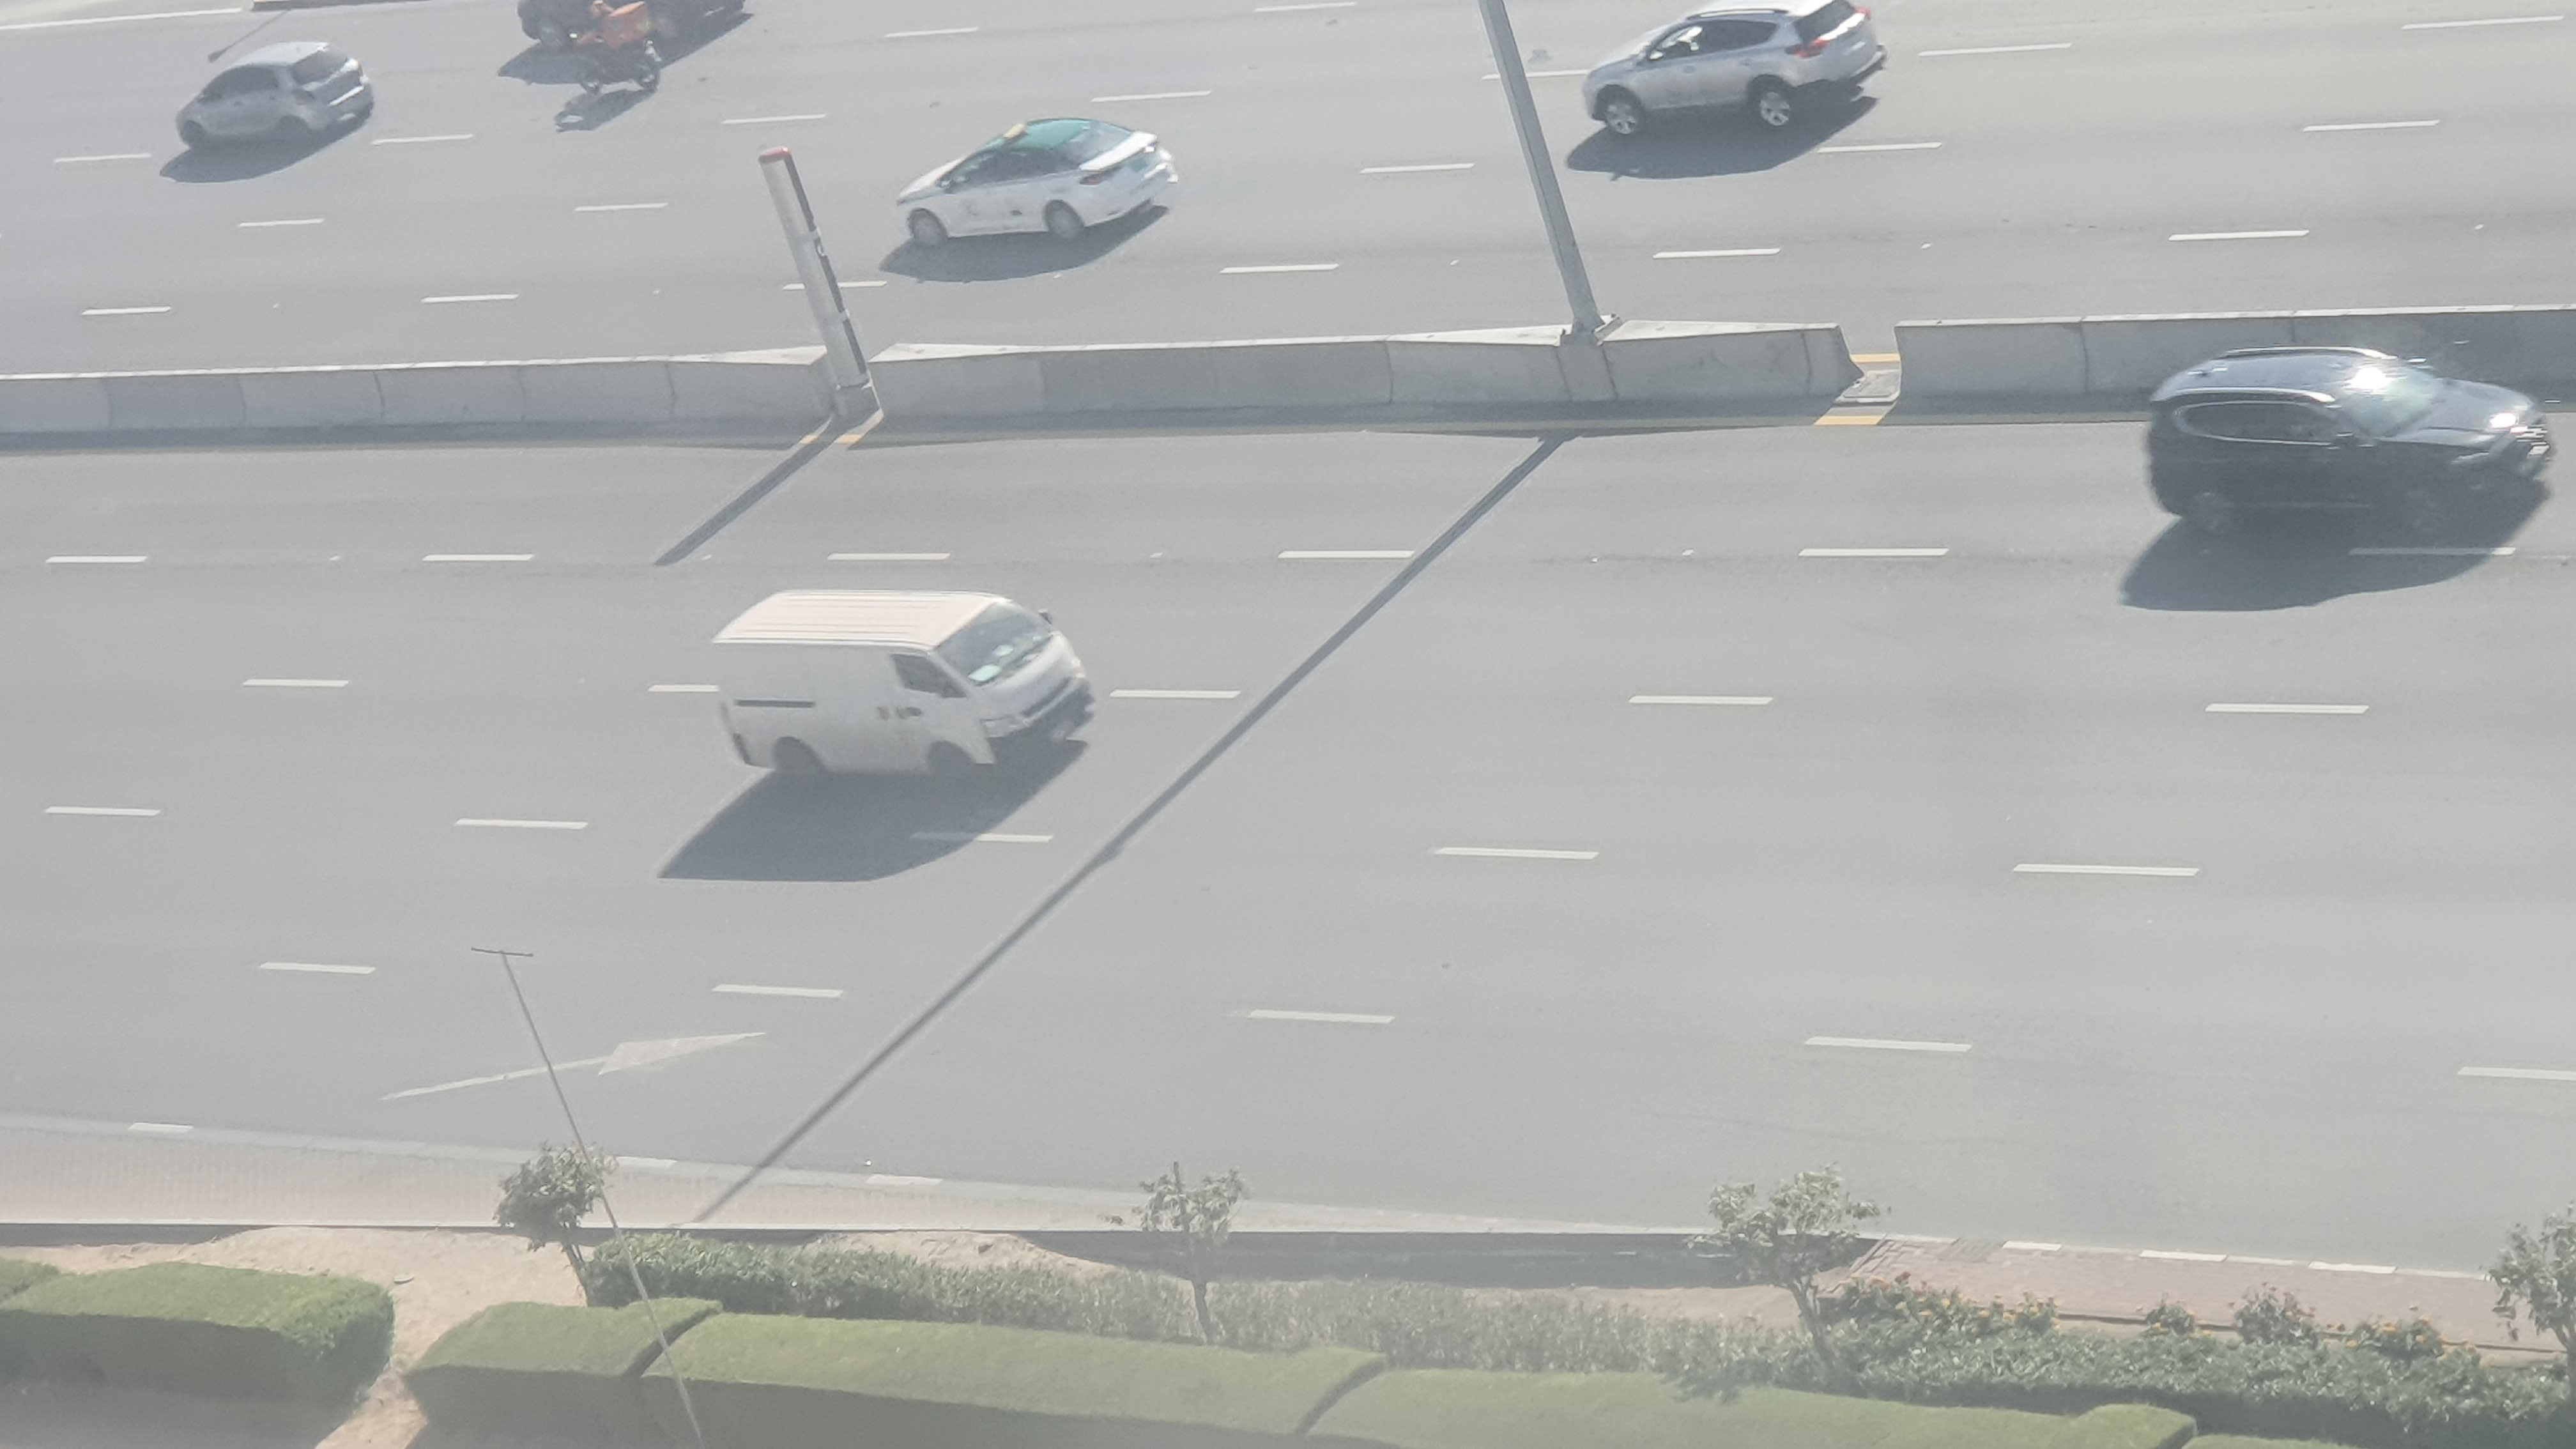NotSunroof: (2143, 343, 2557, 534)
